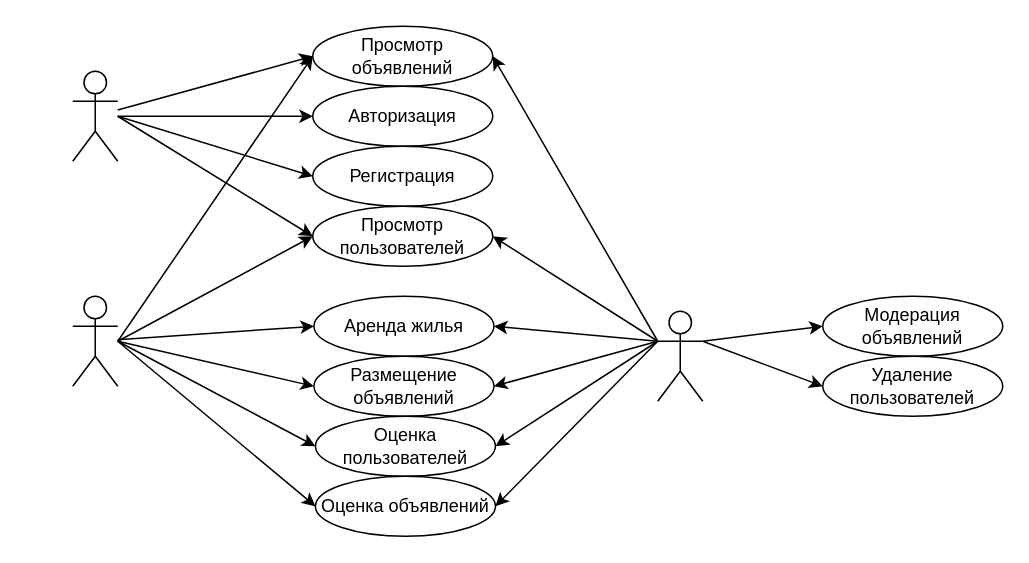
The diagram is 1029 pixels wide and 563 high, and some of its shapes have lost their labels. The shapes that lost their labels are listed below. From the top down, each one's centre as x and y in pixels, then its label:
pixel 94 115: Гость
pixel 94 340: Авторизованный пользователь
pixel 679 355: Администратор
